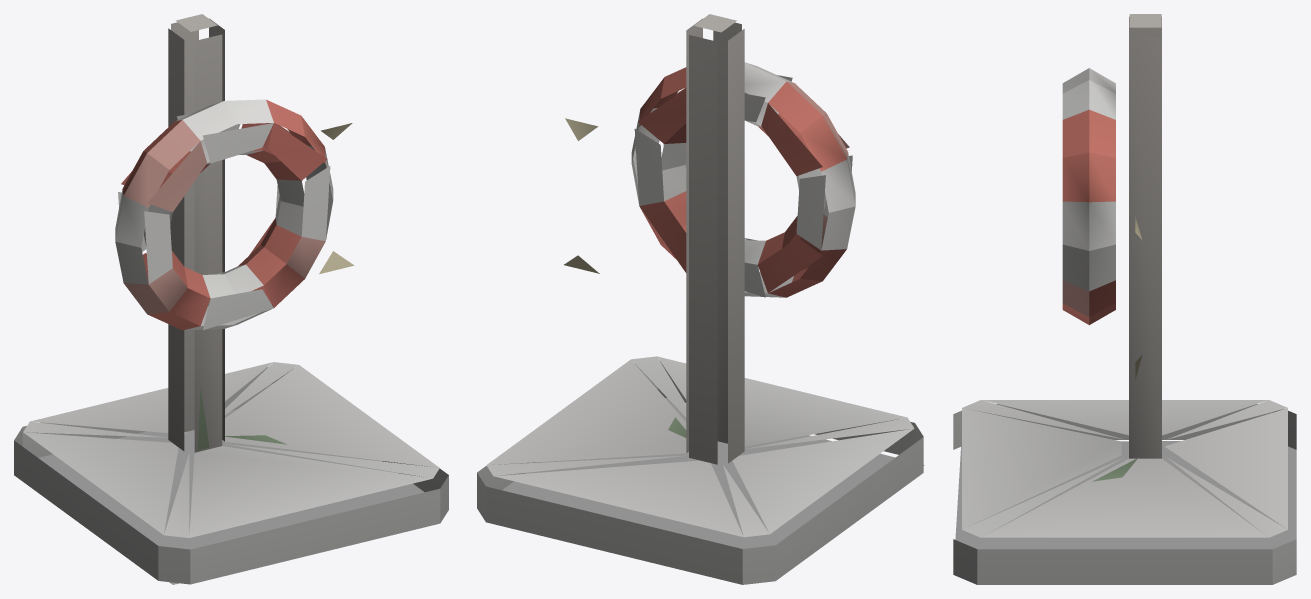
Rendered from buoy.lod.glb.
The picture shows the model from 3 angles, left to right: view 1: azimuth 30°, elevation 25°; view 2: azimuth 150°, elevation 25°; view 3: azimuth 270°, elevation 25°; orthographic projection. The views are drawn at different scales.
Parts seen in each view (by area): view 1: buoy; view 2: buoy; view 3: buoy.
Boxes of the visible parts, <box> form: buoy: <box>14,14,448,584</box>; buoy: <box>477,14,924,584</box>; buoy: <box>953,14,1296,584</box>.
Size of the model in its own units: 1 by 1.54 by 1.
